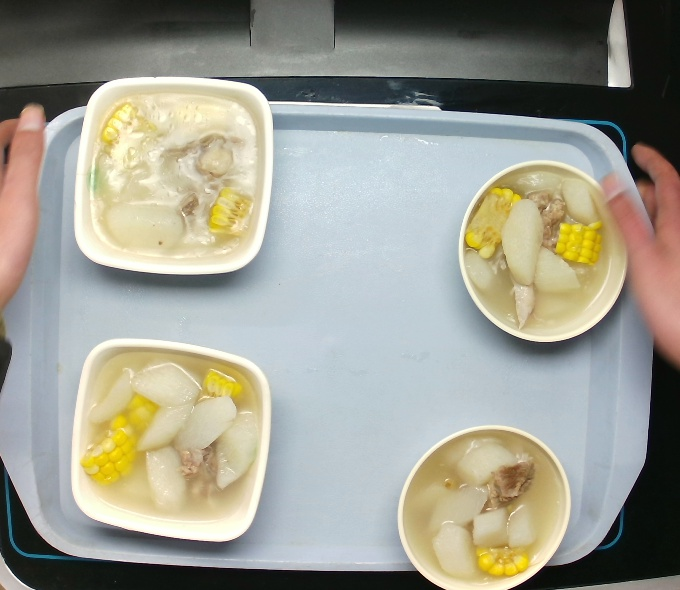wcq-ShanYaoYuMiTang: (84, 83, 269, 265), (76, 347, 265, 522), (401, 426, 568, 585), (461, 164, 615, 336)
